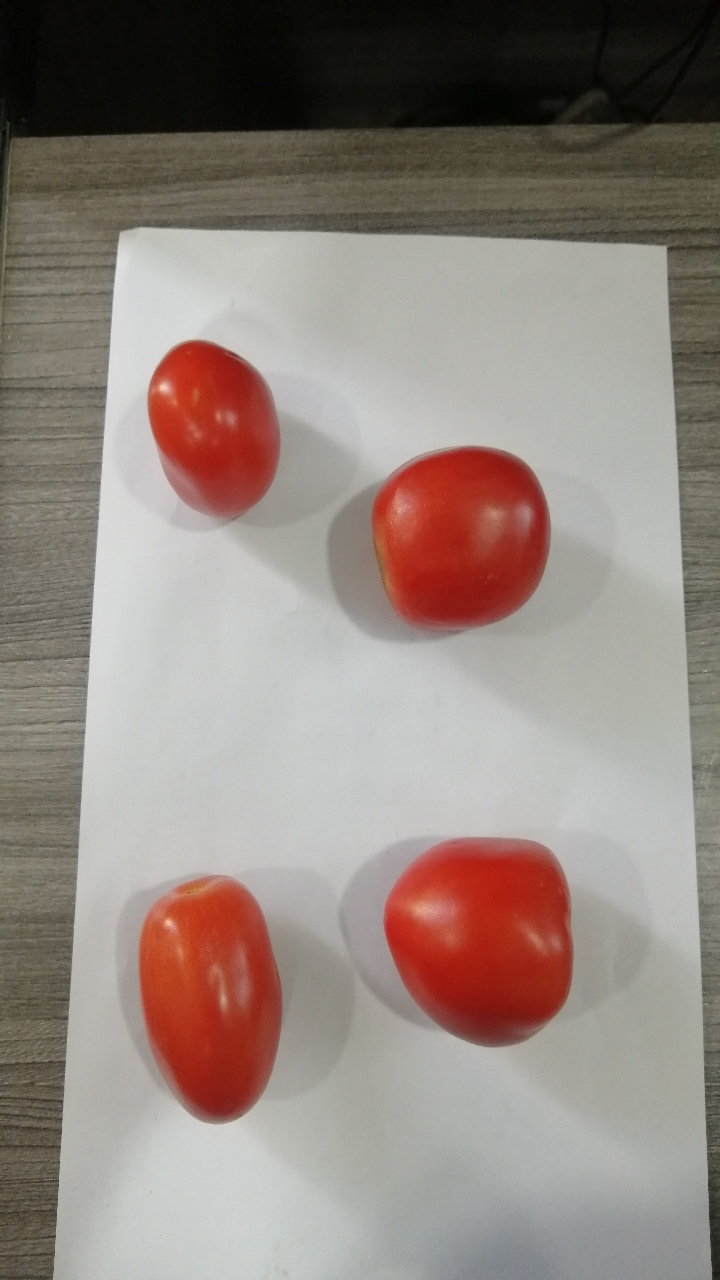tomateRojo: (375, 817, 588, 1063), (346, 435, 571, 666), (112, 865, 298, 1142), (120, 325, 294, 546)
